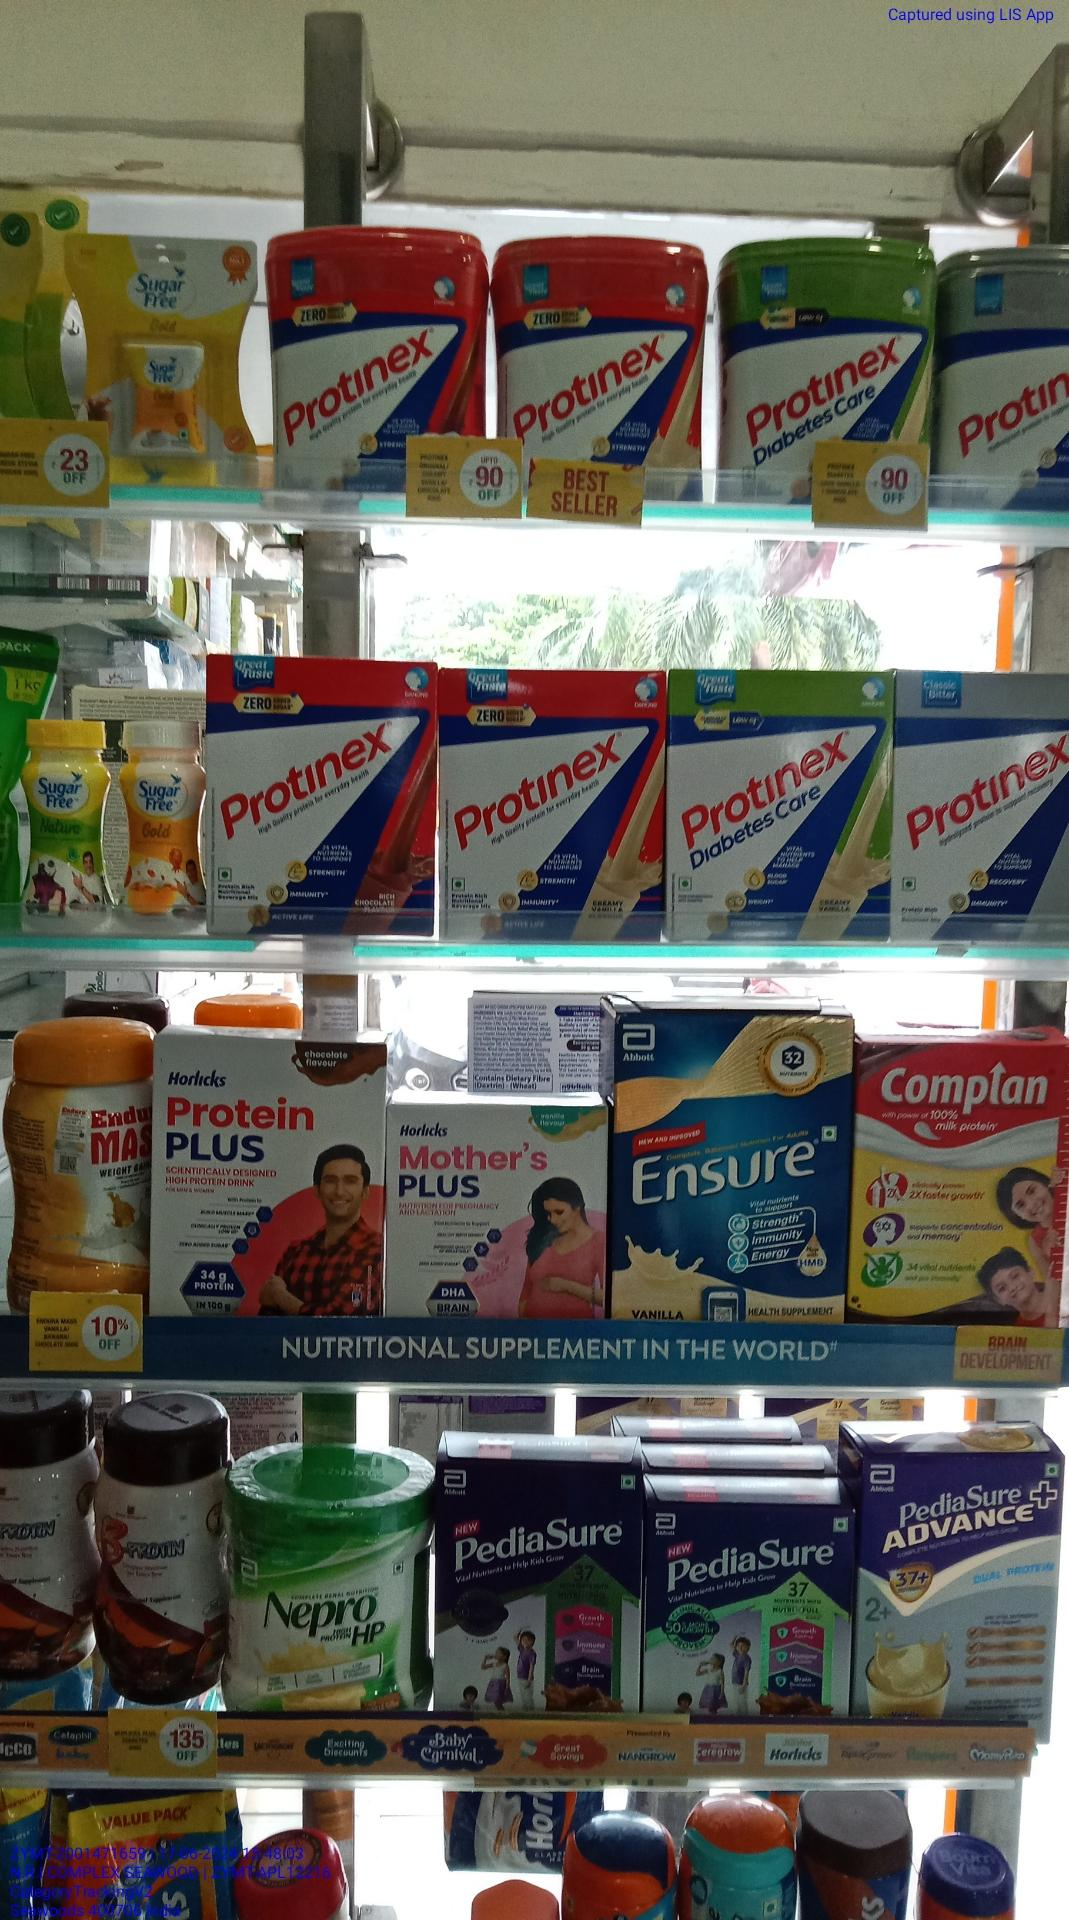COMPLAN_CHOCOLATE_500_GMS_PACK: (861, 1041, 1069, 1324)
ENSURE_VANILLA_400_G_PACK: (612, 1016, 850, 1320)
PROTINEX_CHOCOLATE_400_G_JAR: (267, 229, 484, 487)
PROTINEX_VANILLA_400_G_JAR: (496, 237, 704, 505)
